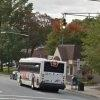Bus: (16, 55, 66, 92)
